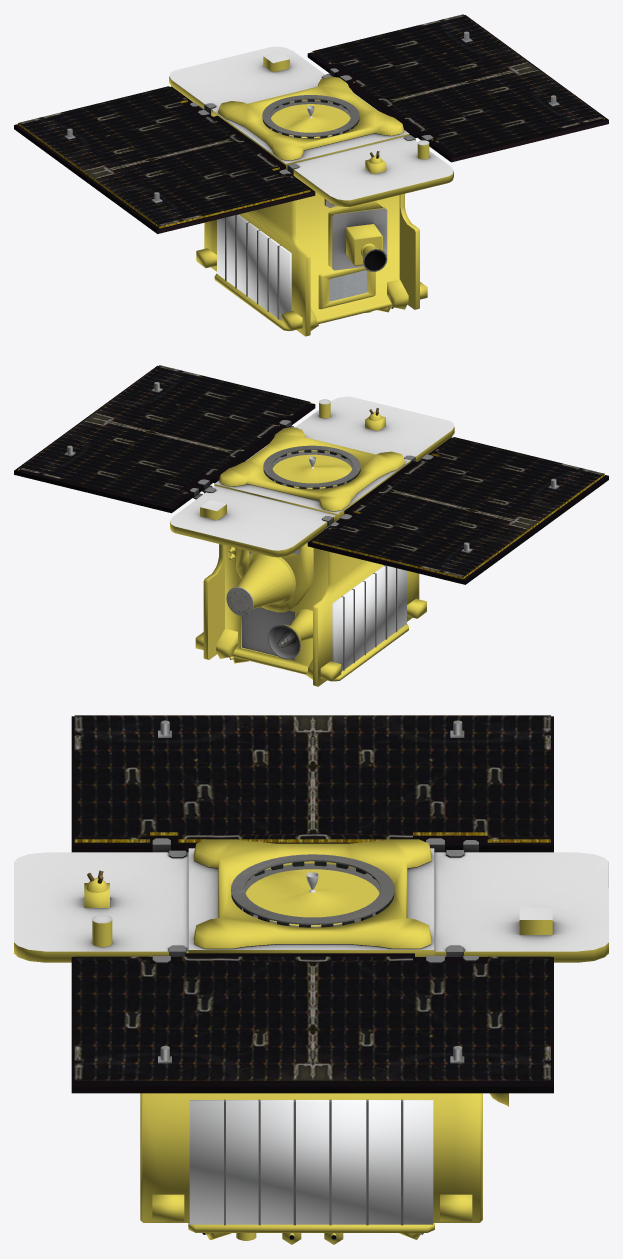
Rendered from grail_b.gltf.
3 renders of one model, top to bottom at view 1: azimuth 30°, elevation 25°; view 2: azimuth 150°, elevation 25°; view 3: azimuth 270°, elevation 25°, orthographic. The views are drawn at different scales.
Visible parts, largest first — view 1: shiny_panel, foil_gold, AO, tex, foil_silver, AO_hinges; view 2: shiny_panel, foil_gold, AO, tex, foil_silver, AO_2, AO_hinges; view 3: shiny_panel, foil_gold, AO, foil_silver, tex, AO_hinges.
Boxes of the visible parts, x1,y1,x2,y2 form: shiny_panel: (18, 14, 604, 226); foil_gold: (169, 56, 453, 336); AO: (169, 46, 453, 270); tex: (14, 15, 608, 319); foil_silver: (217, 215, 291, 320); AO_hinges: (189, 68, 433, 176); shiny_panel: (18, 365, 604, 577); foil_gold: (170, 403, 454, 686); AO: (170, 396, 454, 660); tex: (14, 365, 608, 670); foil_silver: (332, 566, 406, 671); AO_2: (267, 624, 300, 659); AO_hinges: (189, 420, 433, 529); shiny_panel: (74, 715, 550, 1080); foil_gold: (14, 839, 608, 1244); AO: (14, 848, 608, 951); foil_silver: (189, 1100, 433, 1224); tex: (71, 716, 553, 1240); AO_hinges: (152, 838, 478, 963).
Size of the model in its own units: 3.09 by 1.3 by 2.1.
9 materials, 6 textured.
